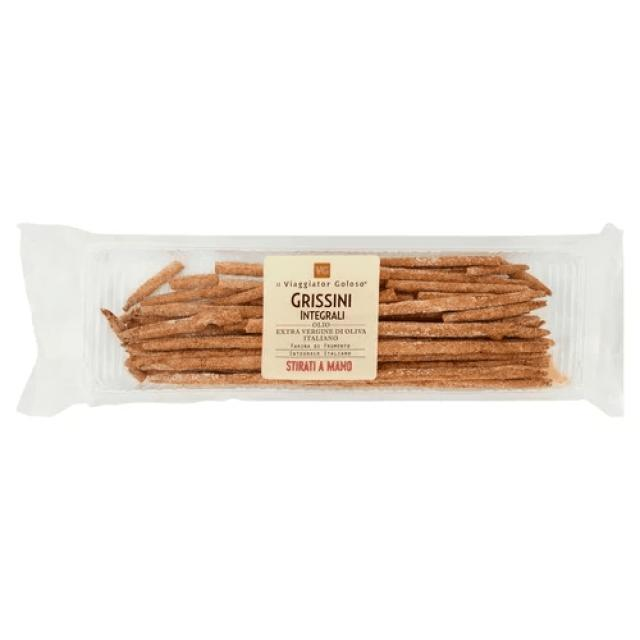bread: (18, 224, 625, 420)
